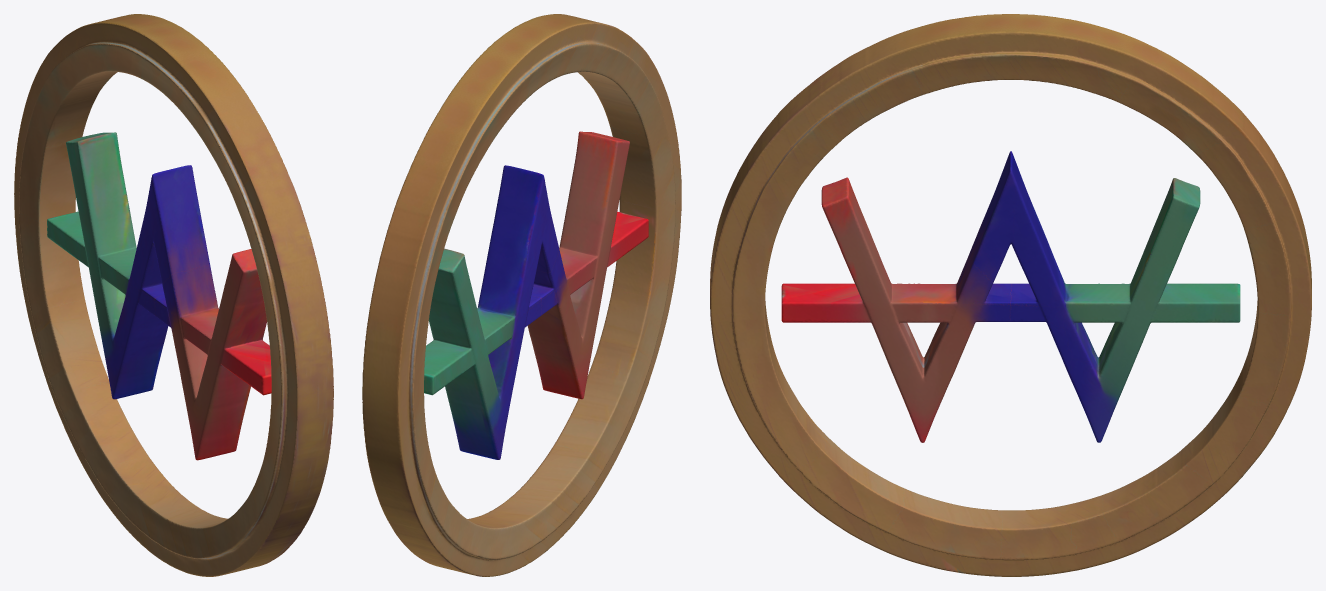
The model's file is coin2.glb.
The picture shows the model from 3 angles, left to right: view 1: azimuth 30°, elevation 25°; view 2: azimuth 150°, elevation 25°; view 3: azimuth 270°, elevation 25°; orthographic projection. The views are drawn at different scales.
Parts seen in each view (by area): view 1: tripo_node_54634607-ffc5-4d8f-b0f9-c7c81e50c898; view 2: tripo_node_54634607-ffc5-4d8f-b0f9-c7c81e50c898; view 3: tripo_node_54634607-ffc5-4d8f-b0f9-c7c81e50c898.
Part boxes in pixels (left/top/right/bottom): tripo_node_54634607-ffc5-4d8f-b0f9-c7c81e50c898: left=14, top=14, right=333, bottom=576; tripo_node_54634607-ffc5-4d8f-b0f9-c7c81e50c898: left=362, top=14, right=681, bottom=576; tripo_node_54634607-ffc5-4d8f-b0f9-c7c81e50c898: left=710, top=14, right=1311, bottom=576.
Bounding box in the file's own units: 0.094 × 0.9993 × 1.
Materials: 1 (1 with a texture image).
